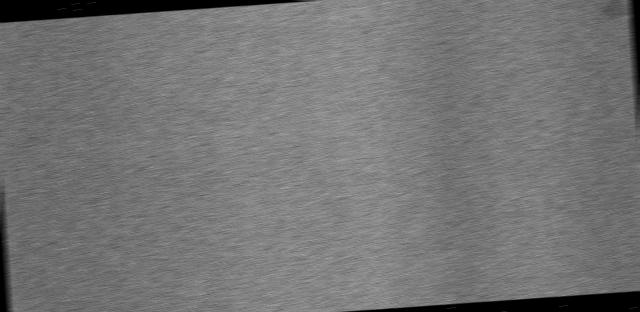oil_spot: (594, 0, 629, 19)
